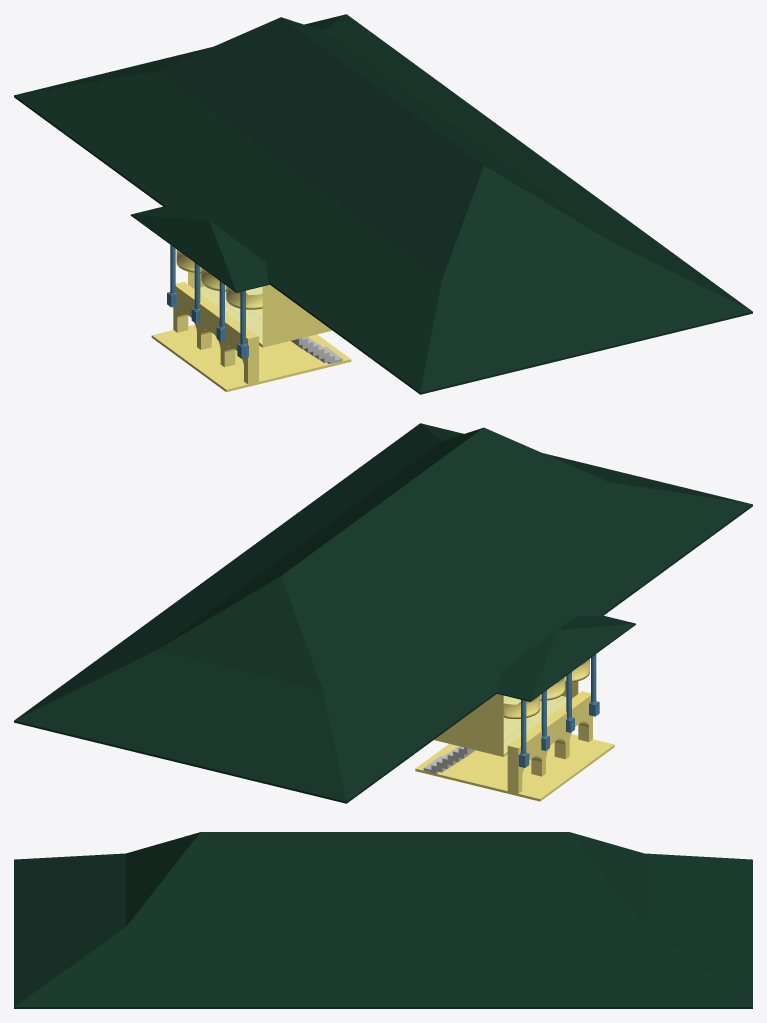
The model's file is ma'had.fbx.
3 views of the same model, one above another, from view 1: azimuth 30°, elevation 25°; view 2: azimuth 150°, elevation 25°; view 3: azimuth 270°, elevation 25° (orthographic). The views are drawn at different scales.
Parts seen in each view (by area): view 1: Genteng Besar, Tembok Depan, Genteng Kecil, Balkon.001, Tangga Kiri.001; view 2: Genteng Besar, Tembok Depan, Genteng Kecil, Balkon.001, Tangga Kanan.001; view 3: Genteng Besar.
Part boxes in pixels (x1,y1,x2,y2): Genteng Besar: (14,14,752,394); Tembok Depan: (151,282,351,392); Genteng Kecil: (130,206,269,292); Balkon.001: (188,272,332,347); Tangga Kiri.001: (291,337,342,364); Genteng Besar: (14,423,752,803); Tembok Depan: (415,691,614,801); Genteng Kecil: (497,615,635,701); Balkon.001: (434,681,578,756); Tangga Kanan.001: (423,746,475,773); Genteng Besar: (14,832,752,1008).
Size of the model in its own units: 9635 by 5675 by 18517.
